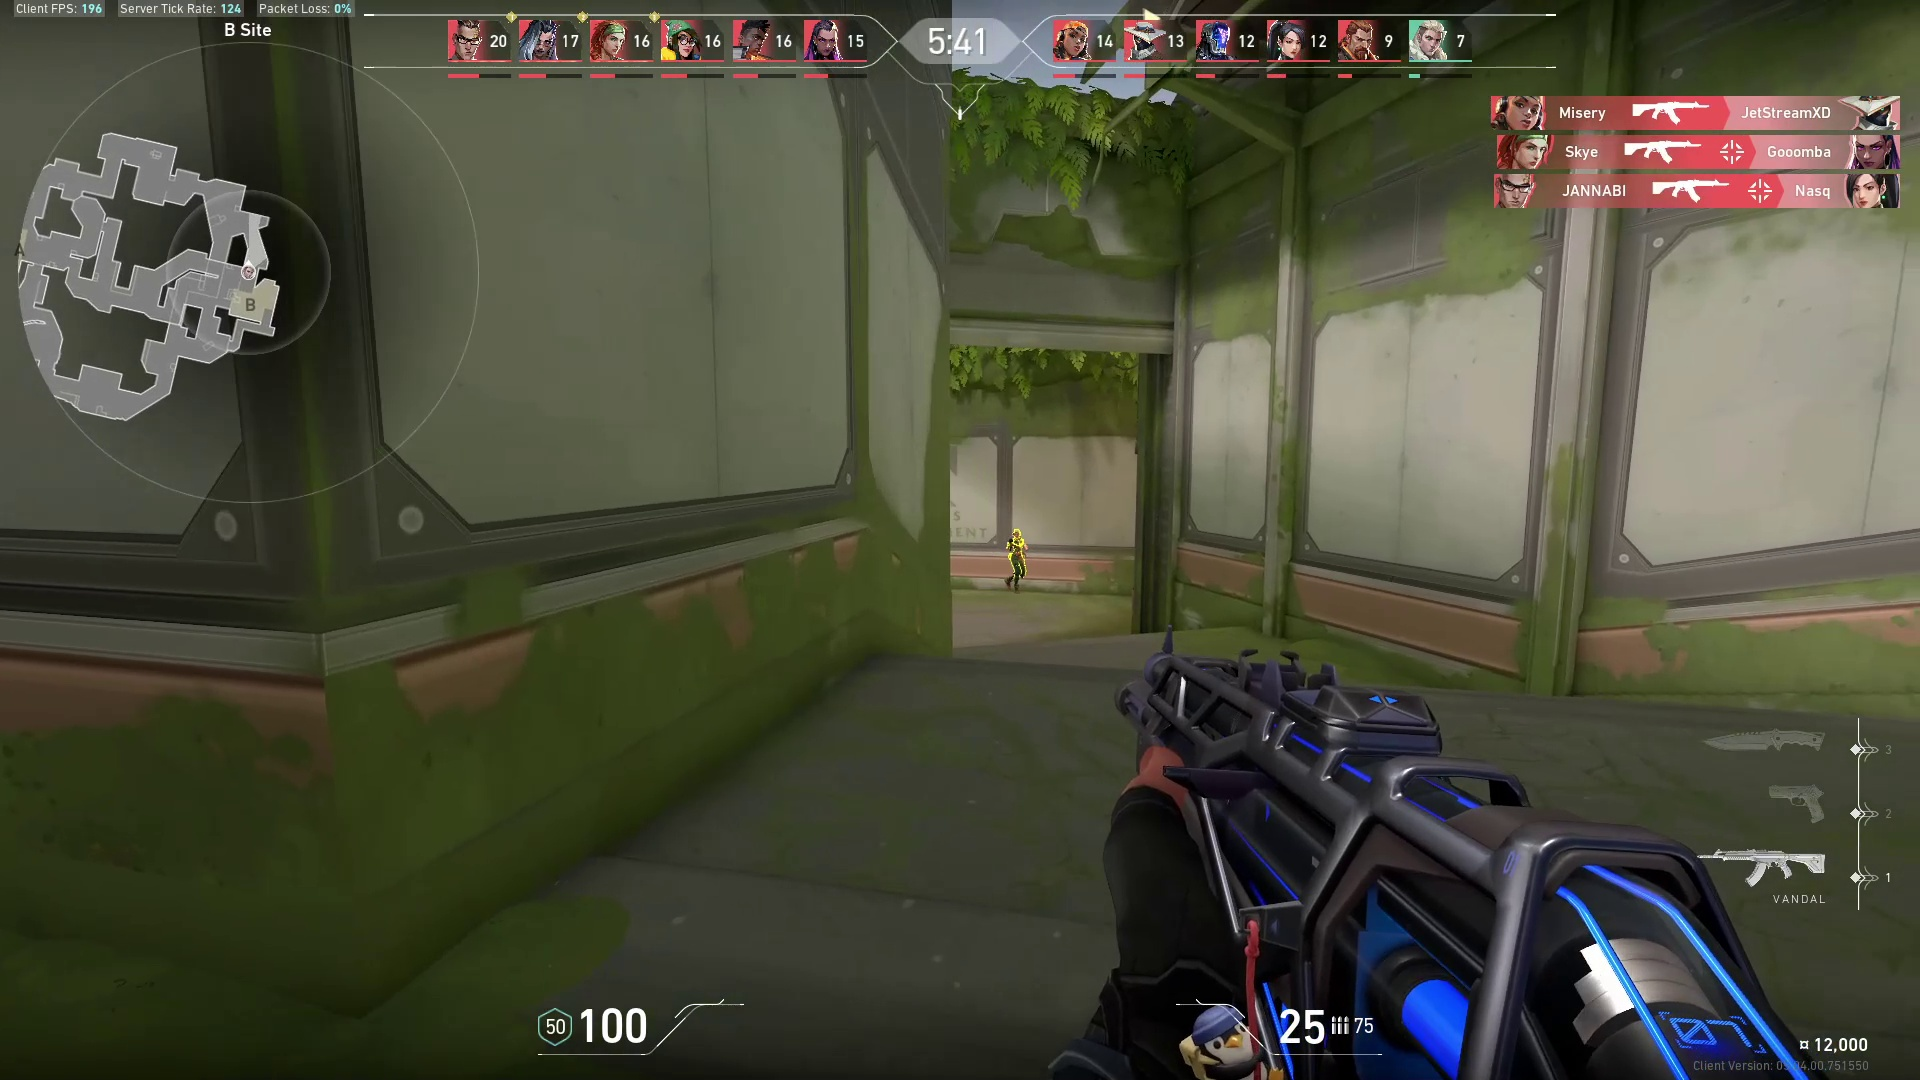enemy_body: (1002, 538, 1030, 596)
enemy_head: (1010, 526, 1022, 539)
